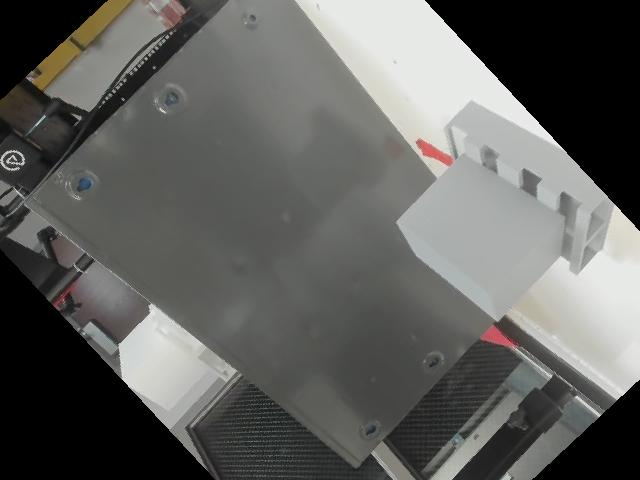grey pallet: (393, 78, 617, 329)
white pallet: (81, 276, 261, 415)
